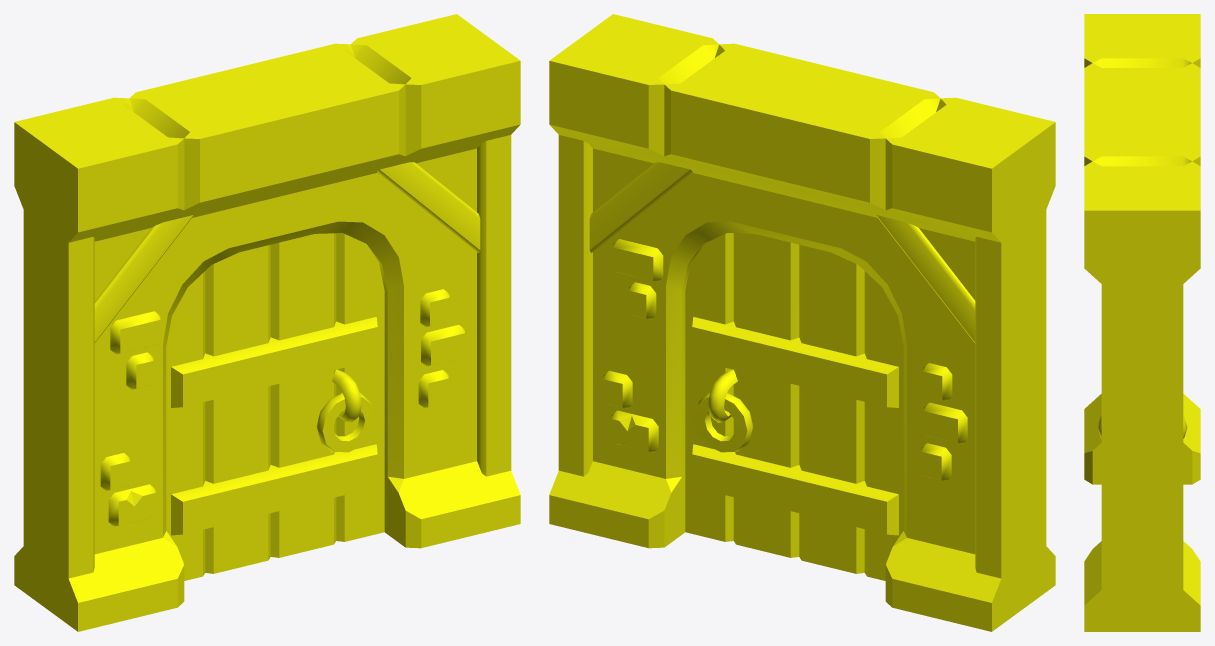
File: kaykit-wall-doorway-scaffold.glb
3 views of the same model, side by side, from view 1: azimuth 30°, elevation 25°; view 2: azimuth 150°, elevation 25°; view 3: azimuth 270°, elevation 25° (orthographic). The views are drawn at different scales.
Parts seen in each view (by area): view 1: wall_doorway_scaffold; view 2: wall_doorway_scaffold; view 3: wall_doorway_scaffold.
Boxes of the visible parts, left/top/right/bottom form: wall_doorway_scaffold: left=14, top=14, right=520, bottom=631; wall_doorway_scaffold: left=549, top=14, right=1055, bottom=631; wall_doorway_scaffold: left=1084, top=14, right=1200, bottom=631.
Bounding box in the file's own units: 4 × 4 × 1.
